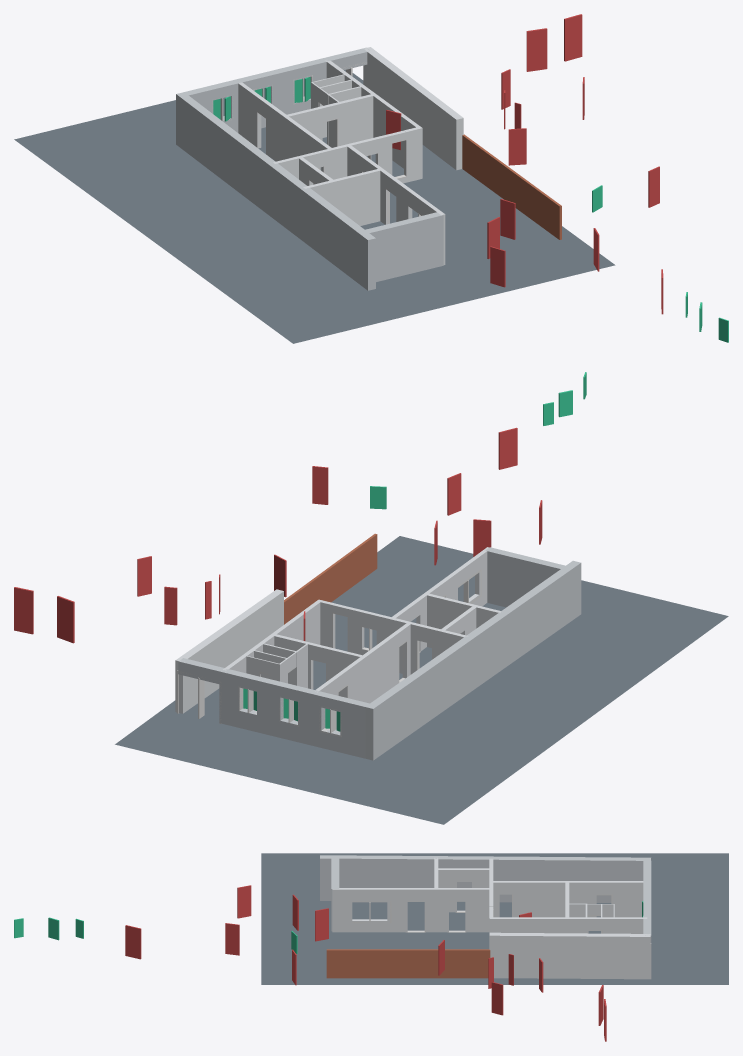
File: foldszint_v3_frames.glb
3 views of the same model, one above another, from view 1: azimuth 30°, elevation 25°; view 2: azimuth 150°, elevation 25°; view 3: azimuth 270°, elevation 25° (orthographic). The views are drawn at different scales.
Parts seen in each view (by area): view 1: Ground floor slab, Wall_path262_0, Wall_path378_3, Wall_path262_1, Brick fence_path234_0, Wall_path270_0, Wall_path226_0, Wall_path238_0, Wall_path232_0, Wall_path224_0, Wall_path218_0_385, Street gate leaf 1.001 (+10 smaller); view 2: Ground floor slab, Wall_path262_0, Wall_path378_3, Brick fence_path234_0, Wall_path262_1, Wall_path226_0, Wall_path218_0_92.423203, Wall_path218_0_245, Wall_path218_0_385, Wall_path270_0, Wall_path232_0, Wall_path218_0_525 (+5 smaller); view 3: Ground floor slab, Wall_path262_0, Wall_path378_3, Brick fence_path234_0, Wall_path226_0, Wall_path232_0, Wall_path224_0, Wall_path264_0, Wall_path266_0, Wall_path268_0.001, Wall_path268_0, Wall_path230_0 (+10 smaller).
Part boxes in pixels (x1=…): Ground floor slab: x1=14, y1=70, x2=615, y2=343; Wall_path262_0: x1=176, y1=92, x2=375, y2=290; Wall_path378_3: x1=363, y1=47, x2=463, y2=170; Wall_path262_1: x1=363, y1=212, x2=443, y2=281; Brick fence_path234_0: x1=462, y1=134, x2=561, y2=239; Wall_path270_0: x1=303, y1=168, x2=381, y2=225; Wall_path226_0: x1=266, y1=103, x2=320, y2=184; Wall_path238_0: x1=335, y1=94, x2=373, y2=146; Wall_path232_0: x1=360, y1=85, x2=422, y2=178; Wall_path224_0: x1=238, y1=82, x2=261, y2=147; Wall_path218_0_385: x1=267, y1=66, x2=294, y2=114; Street gate leaf 1.001: x1=526, y1=28, x2=547, y2=71; Ground floor slab: x1=115, y1=536, x2=728, y2=824; Wall_path262_0: x1=365, y1=560, x2=581, y2=760; Wall_path378_3: x1=175, y1=589, x2=283, y2=713; Brick fence_path234_0: x1=284, y1=533, x2=377, y2=624; Wall_path262_1: x1=485, y1=547, x2=567, y2=607; Wall_path226_0: x1=343, y1=631, x2=399, y2=703; Wall_path218_0_92.423203: x1=340, y1=697, x2=369, y2=758; Wall_path218_0_245: x1=298, y1=687, x2=325, y2=747; Wall_path218_0_385: x1=257, y1=677, x2=284, y2=737; Wall_path270_0: x1=427, y1=593, x2=500, y2=647; Wall_path232_0: x1=260, y1=599, x2=321, y2=645; Wall_path218_0_525: x1=219, y1=668, x2=243, y2=727; Ground floor slab: x1=261, y1=853, x2=728, y2=984; Wall_path262_0: x1=320, y1=855, x2=651, y2=902; Wall_path378_3: x1=489, y1=932, x2=650, y2=979; Brick fence_path234_0: x1=326, y1=949, x2=490, y2=978; Wall_path226_0: x1=512, y1=881, x2=596, y2=917; Wall_path232_0: x1=489, y1=917, x2=588, y2=933; Wall_path224_0: x1=611, y1=881, x2=643, y2=917; Wall_path264_0: x1=465, y1=888, x2=489, y2=932; Wall_path266_0: x1=424, y1=888, x2=448, y2=932; Wall_path268_0.001: x1=332, y1=888, x2=352, y2=932; Wall_path268_0: x1=387, y1=888, x2=407, y2=932; Wall_path230_0: x1=601, y1=917, x2=647, y2=933.
Size of the model in its own units: 30.66 by 4.25 by 45.87.
